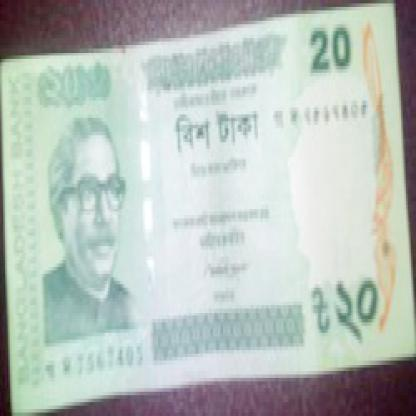Twenty: (310, 277, 384, 340), (171, 108, 263, 152), (301, 21, 358, 83), (40, 66, 121, 107)
